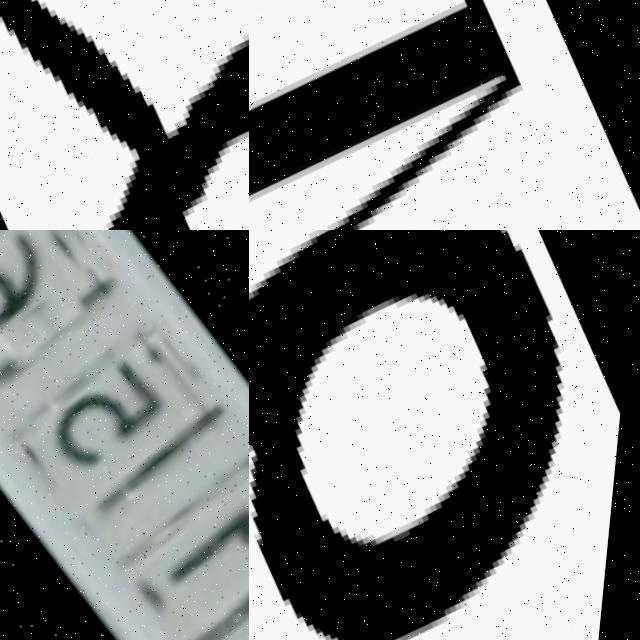1: (143, 471, 249, 617)
5: (18, 333, 200, 495)
6: (0, 230, 101, 367)
9: (249, 230, 640, 640)
M: (249, 0, 640, 230)
